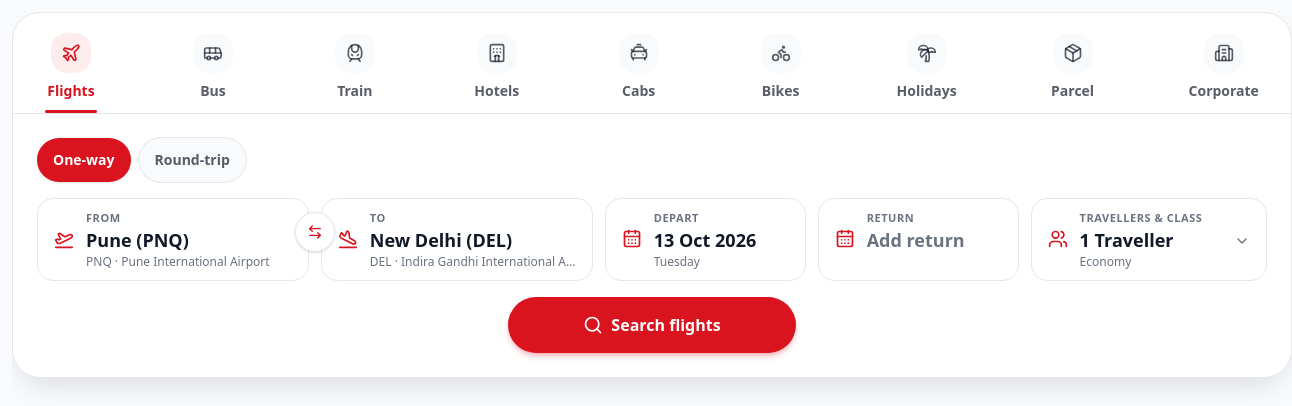
Test: SearchWidget — flights › submits the default Pune → Delhi one-way search
Click the button "Search flights": [652, 325] box [508,297,796,353]
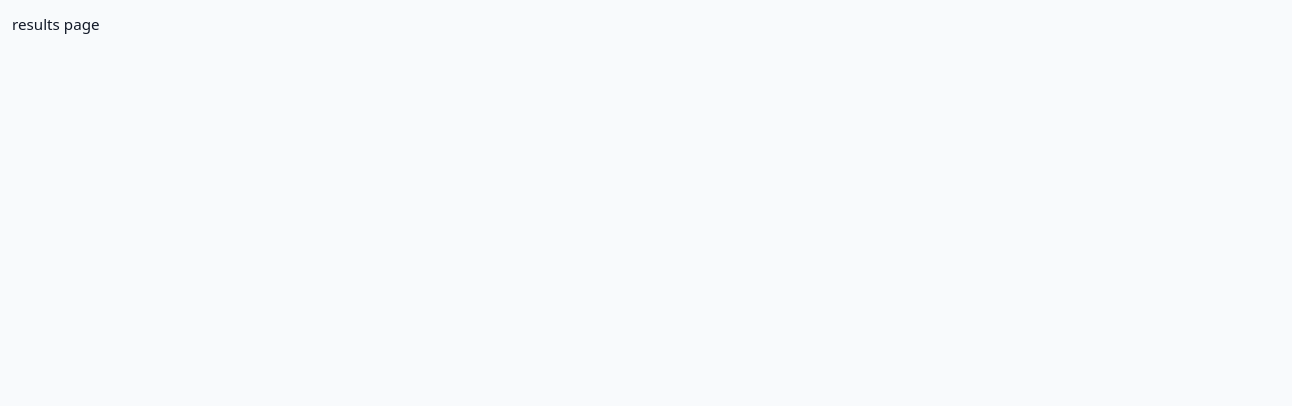
Now the text "results page" is shown, box [12,14,100,34]
